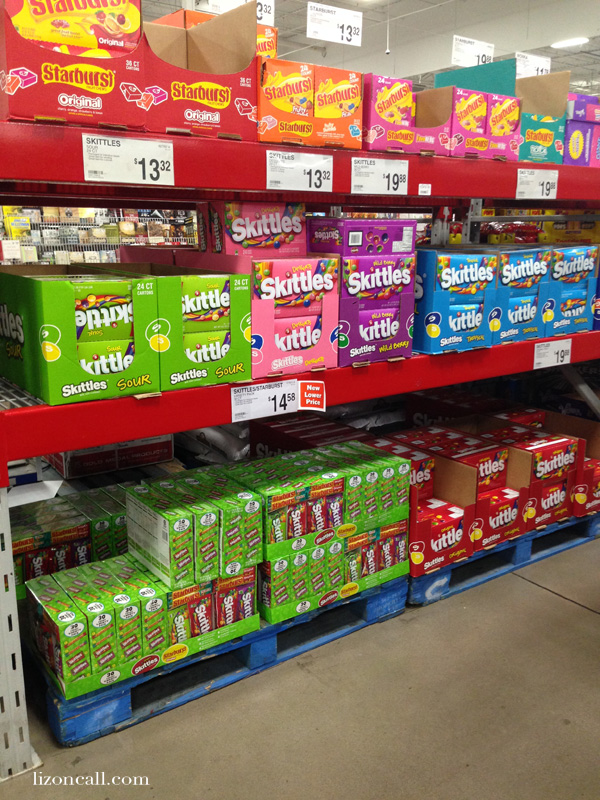Skittles: (39, 276, 162, 396), (158, 277, 251, 386)
